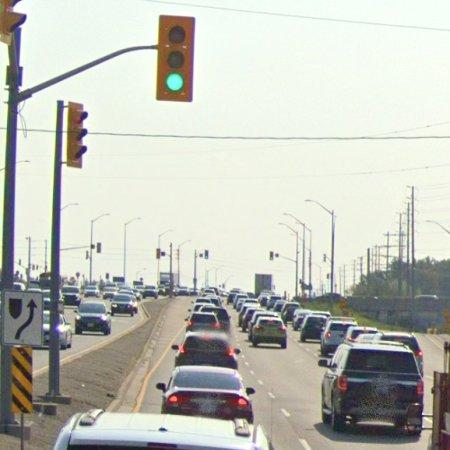traffic lights: (157, 15, 195, 102)
